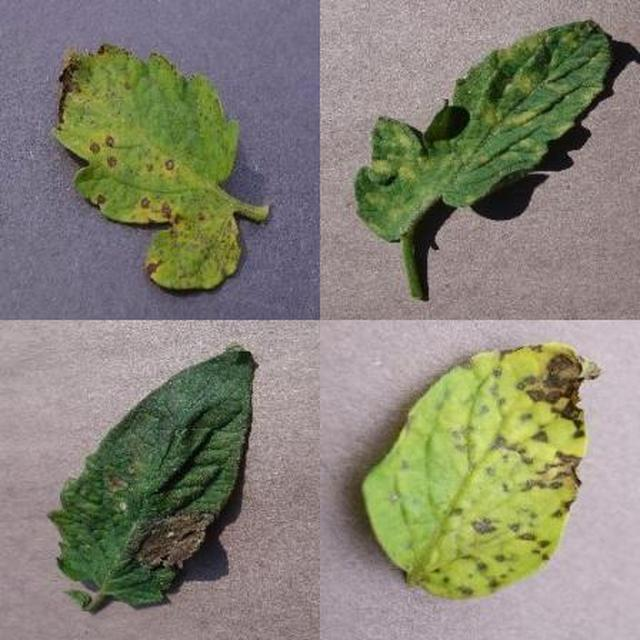Septoria Leaf: (210, 186, 640, 640)
